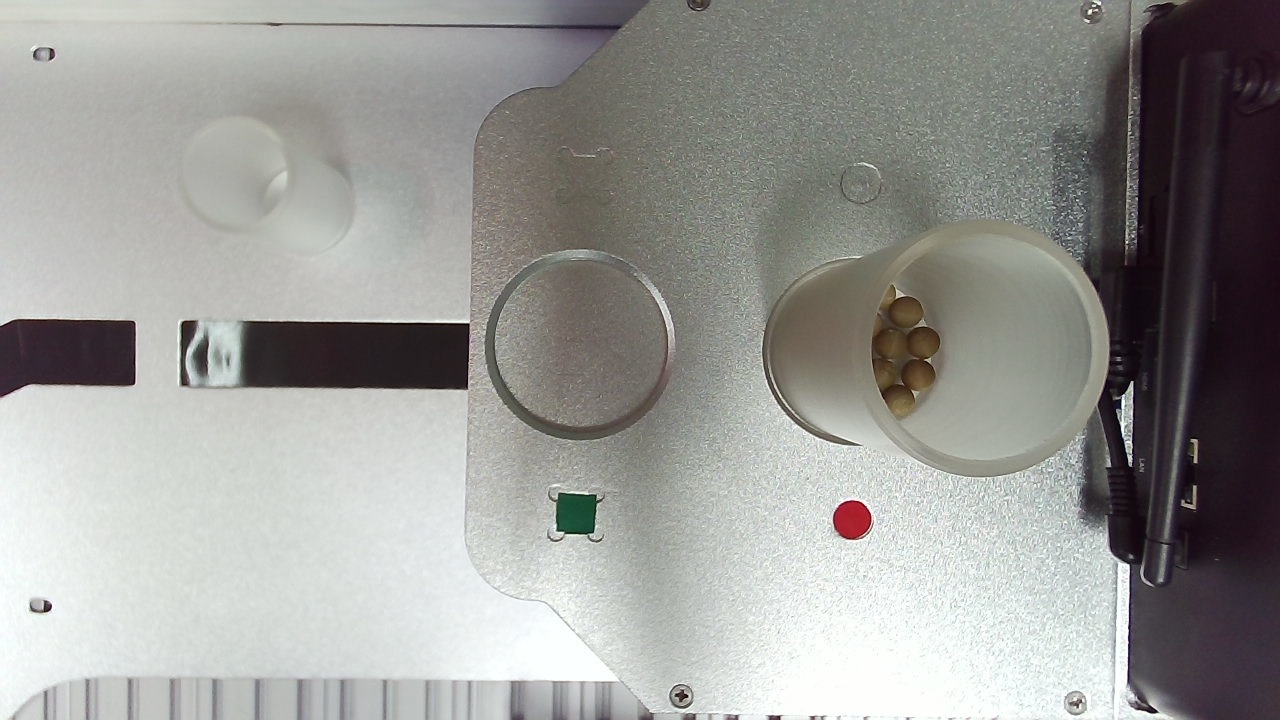XLabel: (331, 88, 399, 157)
YLabel: (758, 134, 830, 212)
none: (170, 218, 487, 548)
whiteempty: (609, 250, 993, 633)
